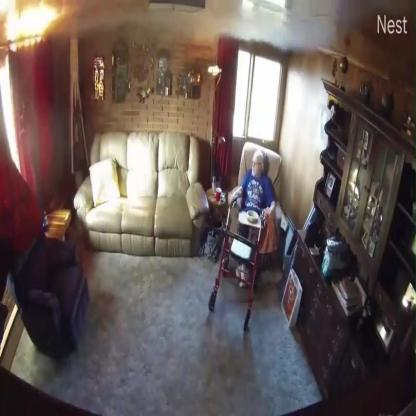fire: (6, 5, 57, 54)
